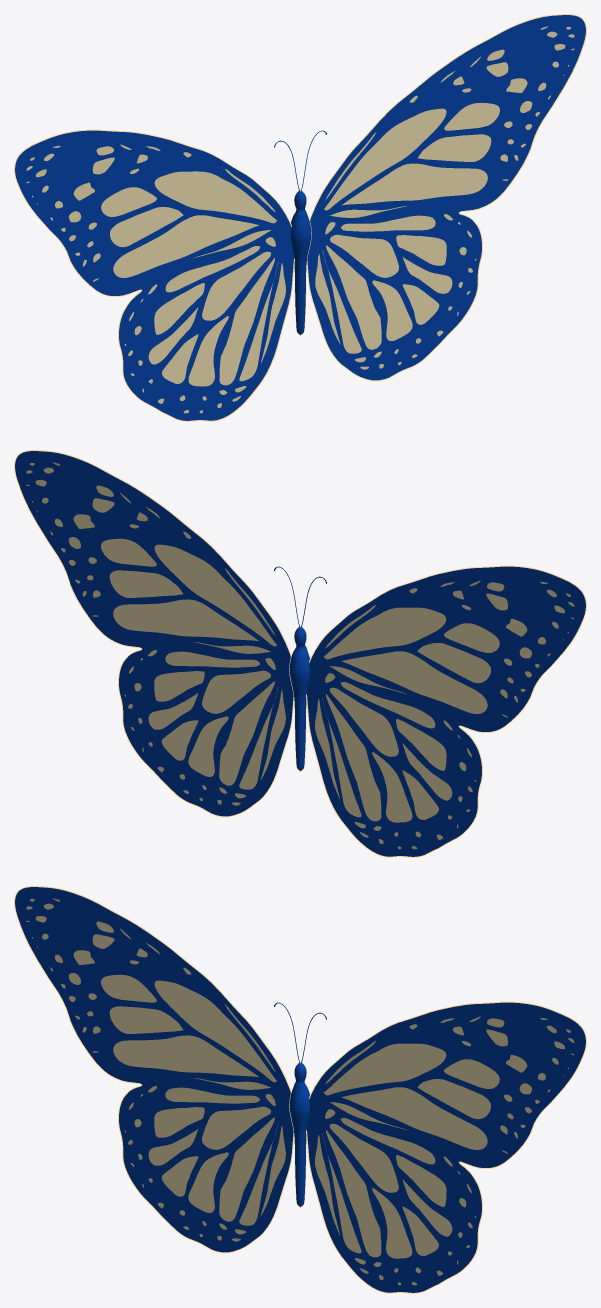
The model's file is Butterfly.glb.
The picture shows the model from 3 angles, top to bottom: view 1: azimuth 30°, elevation 25°; view 2: azimuth 150°, elevation 25°; view 3: azimuth 330°, elevation 25°; orthographic projection.
Parts seen in each view (by area): view 1: Wing_Right, Wing_Left, Body; view 2: Wing_Right, Wing_Left, Body; view 3: Wing_Left, Wing_Right, Body.
Part boxes in pixels (box(x1,y1,x2,y2)): Wing_Right: box(307, 14, 586, 381); Wing_Left: box(14, 129, 294, 421); Body: box(290, 189, 311, 335); Wing_Right: box(14, 450, 293, 817); Wing_Left: box(306, 565, 586, 857); Body: box(289, 625, 310, 771); Wing_Left: box(14, 886, 293, 1253); Wing_Right: box(306, 1001, 586, 1293); Body: box(289, 1061, 310, 1207).
Bounding box in the file's own units: 4.98 × 2.7 × 0.1721.
